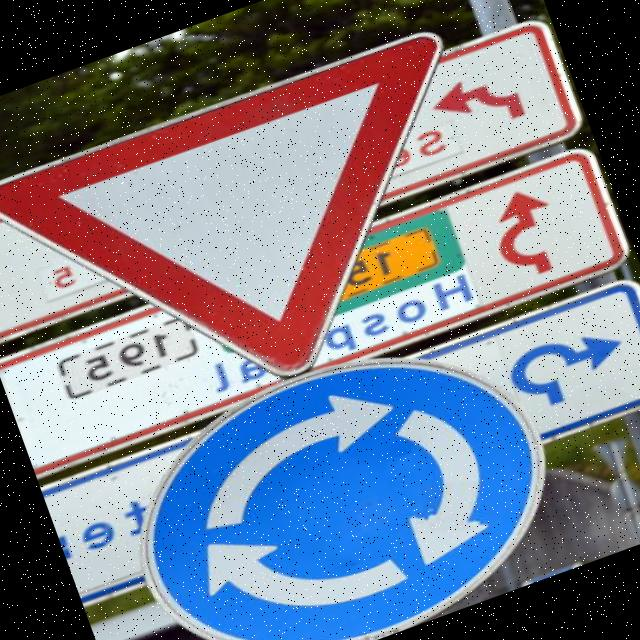give_way: (0, 9, 539, 462)
